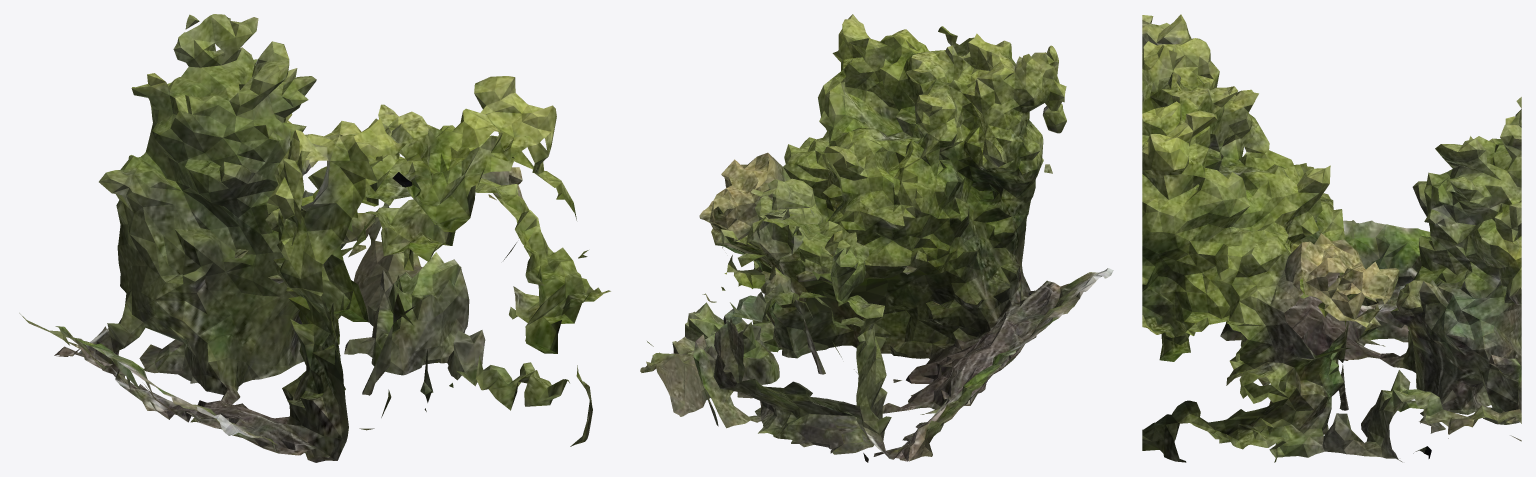
3 renders of one model, left to right at view 1: azimuth 30°, elevation 25°; view 2: azimuth 150°, elevation 25°; view 3: azimuth 270°, elevation 25°, orthographic. The views are drawn at different scales.
Size of the model in its own units: 11.8 by 11.14 by 11.8.
8 materials, 8 textured.
